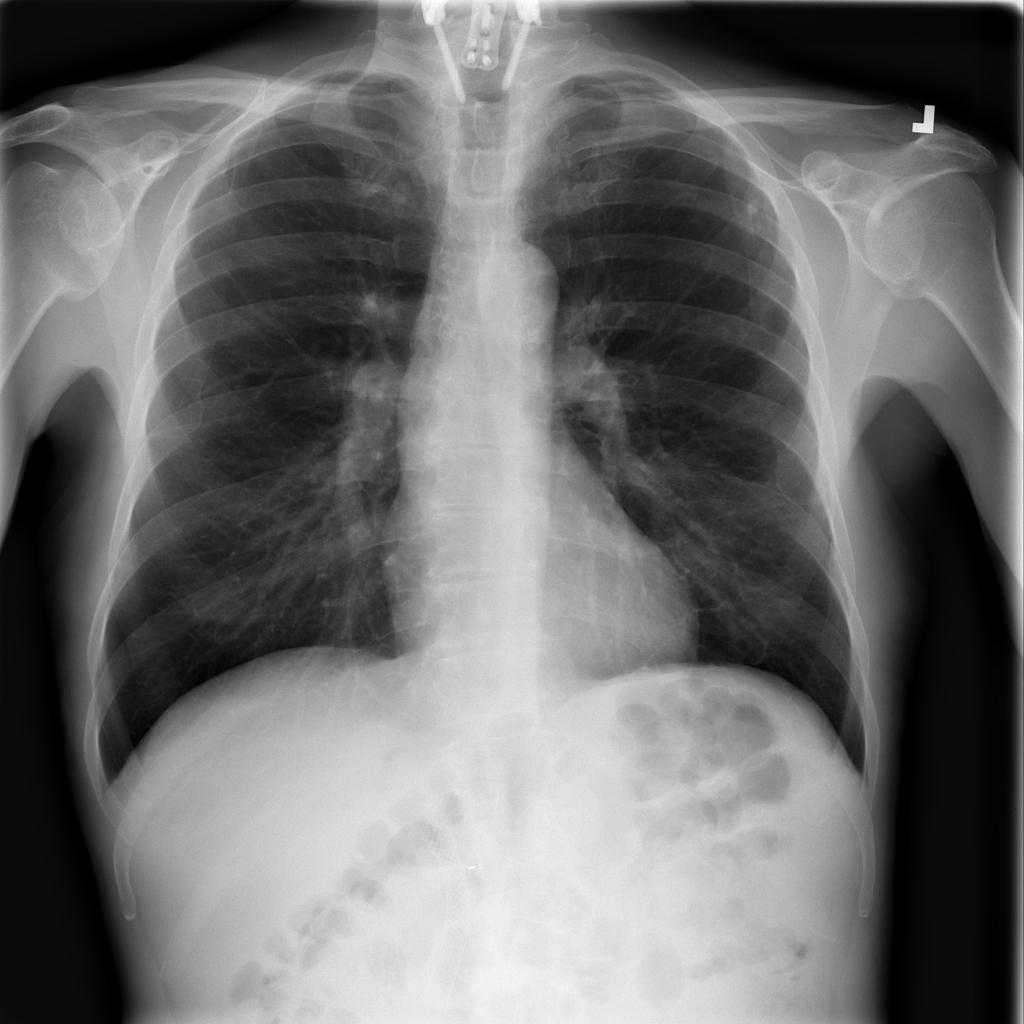nodule: (728, 184, 778, 235)
